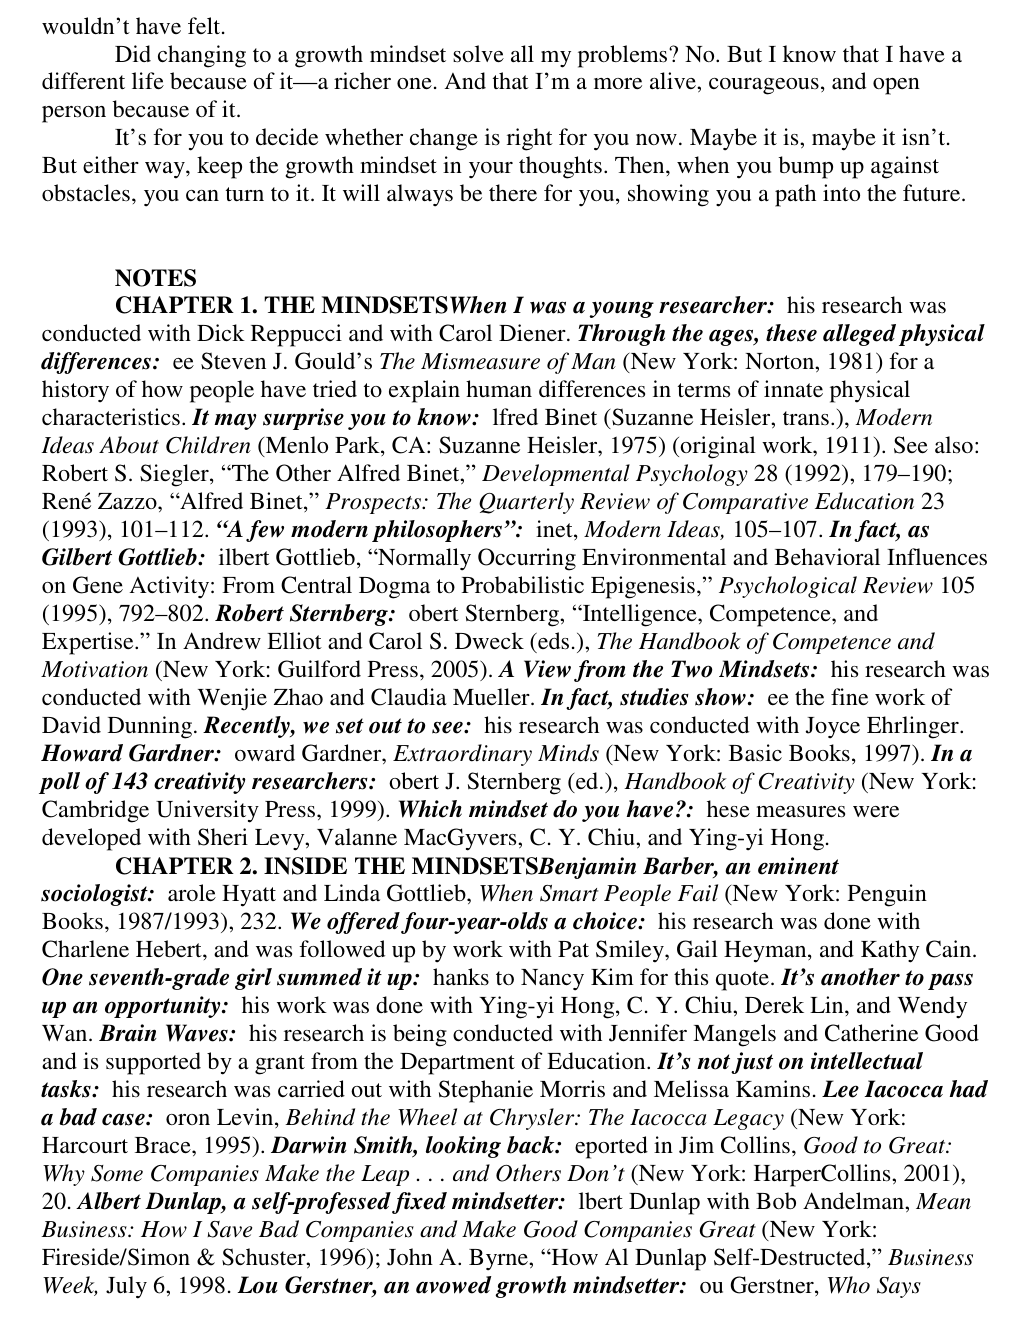latin: (34, 292, 991, 600), (26, 602, 992, 852), (31, 853, 991, 1103), (26, 1102, 979, 1312), (38, 17, 966, 128), (34, 123, 970, 207), (114, 259, 199, 292)
